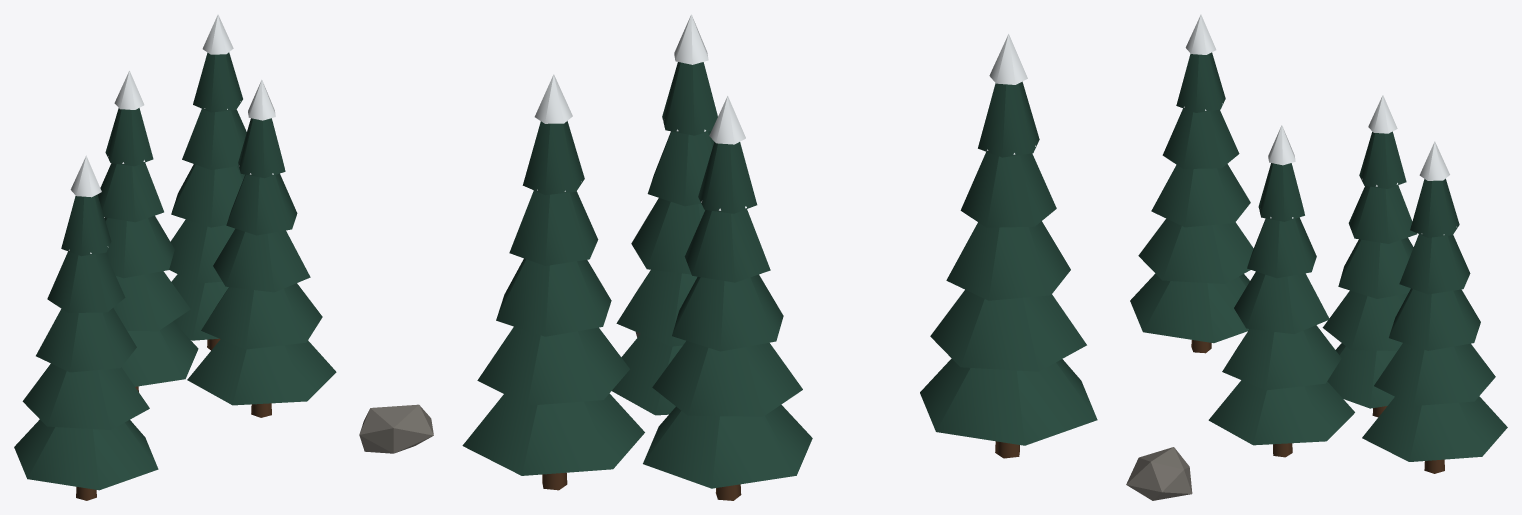
File: sawyer_spruce_ridge_a.glb
3 renders of one model, left to right at view 1: azimuth 30°, elevation 25°; view 2: azimuth 150°, elevation 25°; view 3: azimuth 270°, elevation 25°, orthographic. The views are drawn at different scales.
Parts seen in each view (by area): view 1: snowspruce_0_tier0, snowspruce_2_tier0, snowspruce_0_tier1, snowspruce_2_tier1, snowspruce_0_tier2, snowspruce_2_tier2, snowspruce_0_tier3, snowspruce_1_tier0, snowspruce_1_tier2, snowspruce_1_tier1, snowspruce_3_tier2, snowspruce_2_tier3 (+13 smaller); view 2: snowspruce_0_tier0, snowspruce_3_tier0, snowspruce_1_tier0, snowspruce_0_tier1, snowspruce_3_tier1, snowspruce_1_tier1, snowspruce_0_tier2, snowspruce_3_tier2, snowspruce_1_tier2, snowspruce_0_tier3, snowspruce_3_tier3, snowspruce_1_tier3 (+12 smaller); view 3: snowspruce_2_tier0, snowspruce_3_tier0, snowspruce_0_tier0, snowspruce_0_tier1, snowspruce_3_tier1, snowspruce_2_tier1, snowspruce_0_tier2, snowspruce_3_tier2, snowspruce_2_tier2, snowspruce_1_tier1, snowspruce_0_tier3, snowspruce_1_tier2 (+13 smaller).
Boxes of the visible parts, x1=… form: snowspruce_0_tier0: x1=14, y1=419, x2=158, y2=490; snowspruce_2_tier0: x1=187, y1=339, x2=336, y2=405; snowspruce_0_tier1: x1=22, y1=363, x2=149, y2=429; snowspruce_2_tier1: x1=201, y1=283, x2=322, y2=349; snowspruce_0_tier2: x1=36, y1=308, x2=136, y2=372; snowspruce_2_tier2: x1=213, y1=228, x2=310, y2=292; snowspruce_0_tier3: x1=47, y1=251, x2=125, y2=313; snowspruce_1_tier0: x1=121, y1=321, x2=198, y2=386; snowspruce_1_tier2: x1=104, y1=215, x2=174, y2=278; snowspruce_1_tier1: x1=113, y1=271, x2=190, y2=331; snowspruce_3_tier2: x1=171, y1=164, x2=244, y2=227; snowspruce_2_tier3: x1=226, y1=173, x2=297, y2=235; snowspruce_0_tier0: x1=920, y1=358, x2=1097, y2=445; snowspruce_3_tier0: x1=462, y1=393, x2=644, y2=475; snowspruce_1_tier0: x1=643, y1=404, x2=812, y2=488; snowspruce_0_tier1: x1=930, y1=289, x2=1086, y2=371; snowspruce_3_tier1: x1=477, y1=326, x2=629, y2=405; snowspruce_1_tier1: x1=652, y1=341, x2=802, y2=416; snowspruce_0_tier2: x1=946, y1=221, x2=1070, y2=300; snowspruce_3_tier2: x1=496, y1=258, x2=611, y2=336; snowspruce_1_tier2: x1=672, y1=274, x2=783, y2=351; snowspruce_0_tier3: x1=960, y1=152, x2=1056, y2=227; snowspruce_3_tier3: x1=509, y1=190, x2=598, y2=265; snowspruce_1_tier3: x1=684, y1=209, x2=770, y2=282; snowspruce_2_tier0: x1=1208, y1=380, x2=1354, y2=445; snowspruce_3_tier0: x1=1362, y1=396, x2=1507, y2=461; snowspruce_0_tier0: x1=1130, y1=273, x2=1249, y2=343; snowspruce_0_tier1: x1=1138, y1=218, x2=1253, y2=283; snowspruce_3_tier1: x1=1374, y1=343, x2=1495, y2=405; snowspruce_2_tier1: x1=1222, y1=325, x2=1341, y2=390; snowspruce_0_tier2: x1=1151, y1=164, x2=1250, y2=227; snowspruce_3_tier2: x1=1389, y1=288, x2=1480, y2=350; snowspruce_2_tier2: x1=1234, y1=271, x2=1329, y2=333; snowspruce_1_tier1: x1=1322, y1=290, x2=1407, y2=350; snowspruce_0_tier3: x1=1162, y1=108, x2=1239, y2=168; snowspruce_1_tier2: x1=1338, y1=237, x2=1413, y2=298.
Size of the model in its own units: 4.09 by 3.52 by 3.52.
